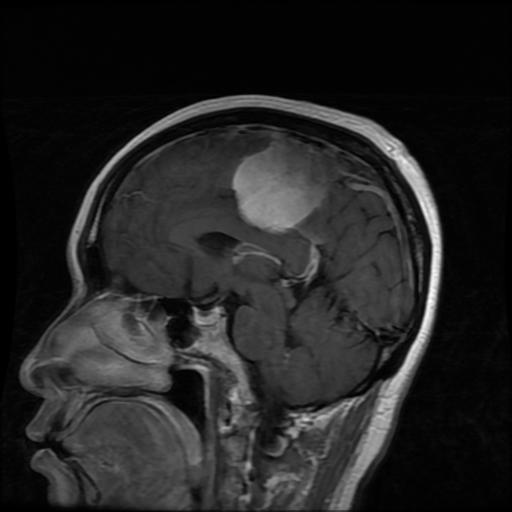Menigiomia_tumour: (232, 135, 337, 233)
